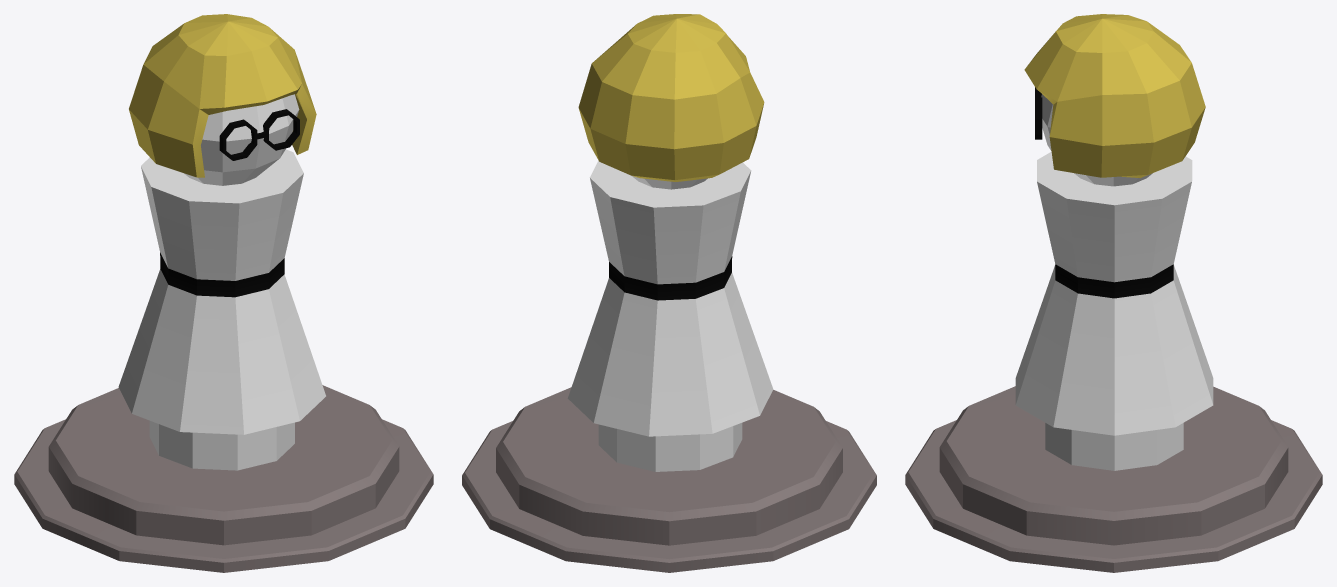
The model's file is professor.fbx.
3 views of the same model, side by side, from view 1: azimuth 30°, elevation 25°; view 2: azimuth 150°, elevation 25°; view 3: azimuth 270°, elevation 25° (orthographic).
Parts seen in each view (by area): view 1: pCylinder10, pCylinder11, polySurface4, polySurface1, pPipe3; view 2: pCylinder10, pCylinder11, polySurface4; view 3: pCylinder10, pCylinder11, polySurface4, polySurface1.
Boxes of the visible parts, x1,y1,x2,y2 form: pCylinder10: (14, 385, 433, 572); pCylinder11: (118, 149, 325, 470); polySurface4: (129, 14, 316, 177); polySurface1: (184, 94, 299, 185); pPipe3: (219, 109, 299, 160); pCylinder10: (462, 387, 876, 572); pCylinder11: (567, 160, 773, 471); polySurface4: (578, 14, 764, 181); pCylinder10: (905, 386, 1322, 572); pCylinder11: (1015, 151, 1213, 470); polySurface4: (1024, 14, 1205, 178); polySurface1: (1041, 94, 1152, 186).
Bounding box in the file's own units: 10.26 × 12.63 × 10.26.
